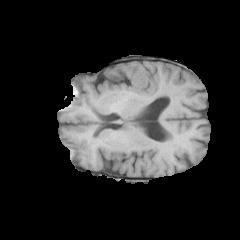glioma: (98, 66, 158, 102)
